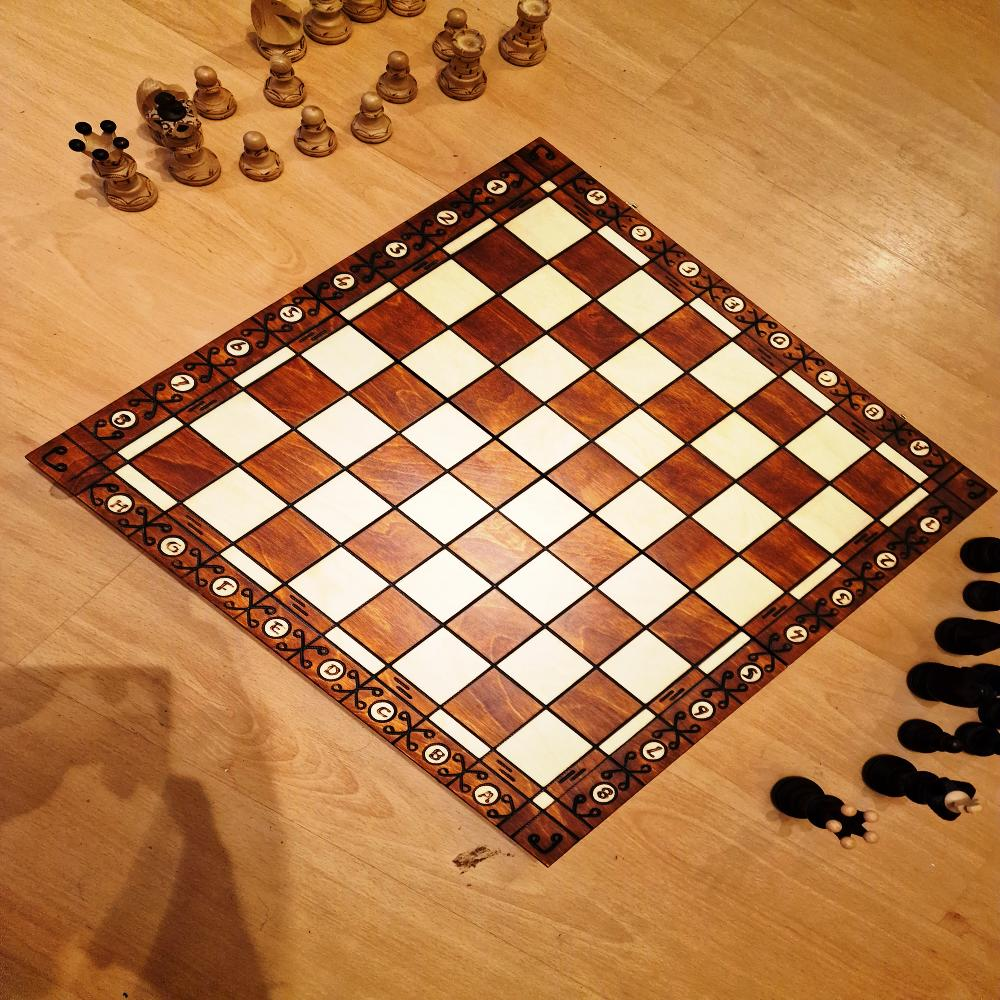chessfield: (180, 468, 290, 547), (389, 629, 493, 711), (443, 668, 549, 748), (338, 585, 442, 666), (286, 550, 392, 629), (128, 425, 235, 503), (495, 630, 596, 711), (235, 509, 338, 588), (495, 712, 596, 792), (239, 430, 342, 508), (186, 393, 290, 469), (342, 511, 443, 589), (392, 551, 494, 628), (444, 588, 544, 666), (290, 472, 392, 548), (294, 398, 396, 474), (548, 672, 645, 751), (547, 590, 645, 668), (243, 357, 346, 431), (497, 553, 595, 630), (347, 434, 446, 510), (396, 473, 496, 548), (599, 631, 695, 709), (446, 512, 544, 587), (597, 556, 693, 632), (594, 480, 690, 553), (350, 291, 447, 363), (399, 332, 496, 404), (648, 593, 742, 667), (645, 519, 740, 592), (496, 406, 592, 478), (349, 362, 445, 434), (298, 326, 394, 398), (545, 445, 640, 517), (592, 410, 688, 481), (548, 517, 642, 589), (449, 441, 543, 513), (450, 298, 545, 369), (400, 260, 496, 330), (687, 412, 780, 484), (691, 560, 784, 632), (500, 263, 594, 334), (400, 403, 494, 474), (449, 367, 543, 438), (452, 228, 546, 299), (690, 484, 781, 557), (736, 450, 828, 522), (639, 377, 732, 448), (546, 371, 639, 442), (784, 486, 877, 557), (642, 449, 735, 520), (498, 478, 592, 548), (498, 338, 591, 408), (595, 340, 688, 410), (549, 302, 641, 372), (733, 380, 824, 450), (739, 523, 829, 593), (686, 343, 776, 412), (782, 416, 870, 486), (831, 452, 919, 522), (550, 234, 640, 302), (504, 196, 592, 264), (640, 306, 729, 373), (597, 270, 687, 336)
